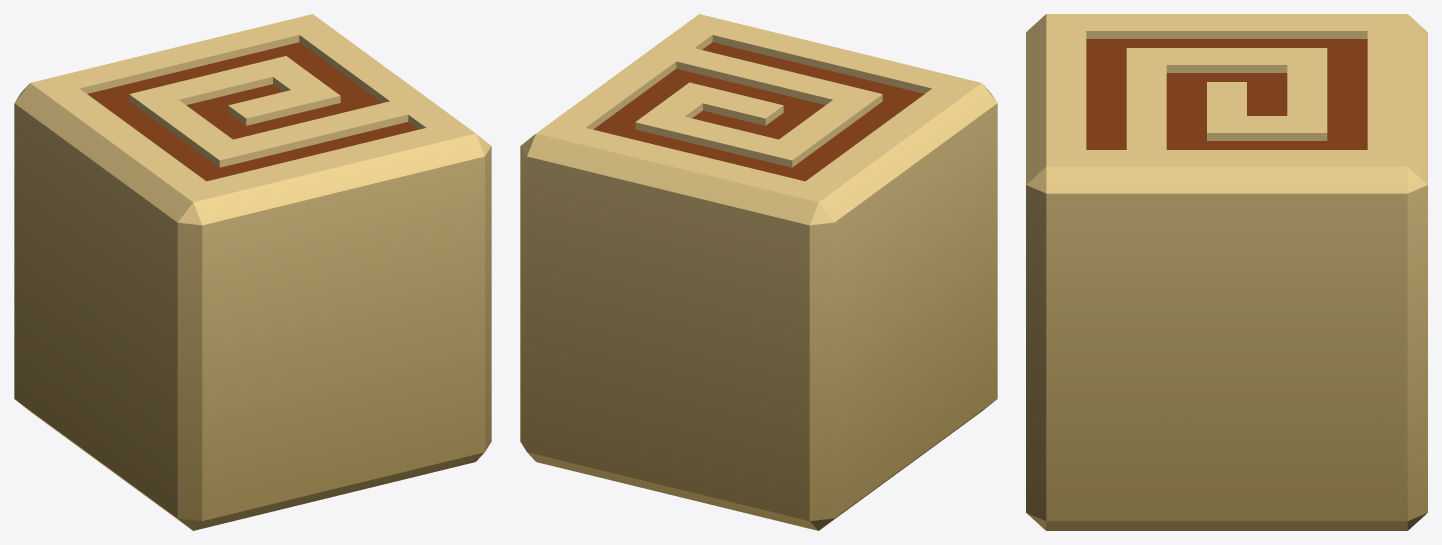
The model's file is Tile_BuntutPutih.fbx.
3 views of the same model, side by side, from view 1: azimuth 30°, elevation 25°; view 2: azimuth 150°, elevation 25°; view 3: azimuth 270°, elevation 25° (orthographic). The views are drawn at different scales.
Visible parts, largest first — view 1: Tile Buntut Putih; view 2: Tile Buntut Putih; view 3: Tile Buntut Putih.
Part boxes in pixels (x1,y1,x2,y2): Tile Buntut Putih: (14,14,491,530); Tile Buntut Putih: (520,14,997,530); Tile Buntut Putih: (1026,14,1427,530).
Size of the model in its own units: 1 by 1 by 1.
1 material, 1 textured.
